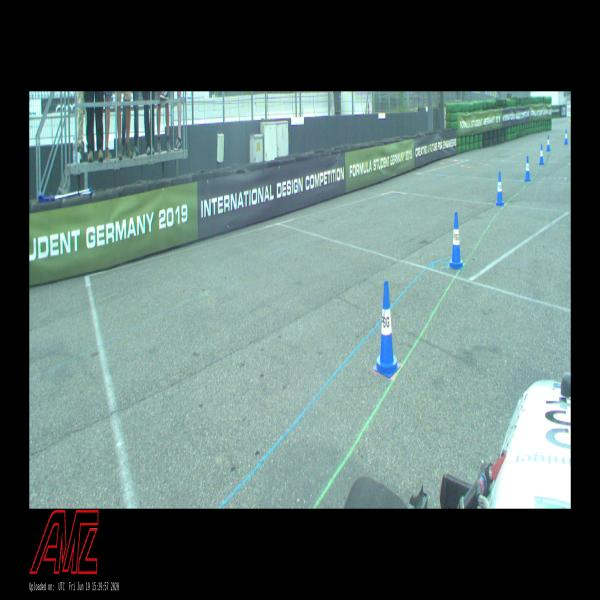blue_cone: (373, 280, 400, 378), (449, 212, 464, 269), (495, 172, 504, 205), (524, 156, 531, 181), (539, 145, 544, 165), (564, 129, 568, 145), (546, 135, 550, 151)
yellow_cone: (569, 116, 571, 123)
